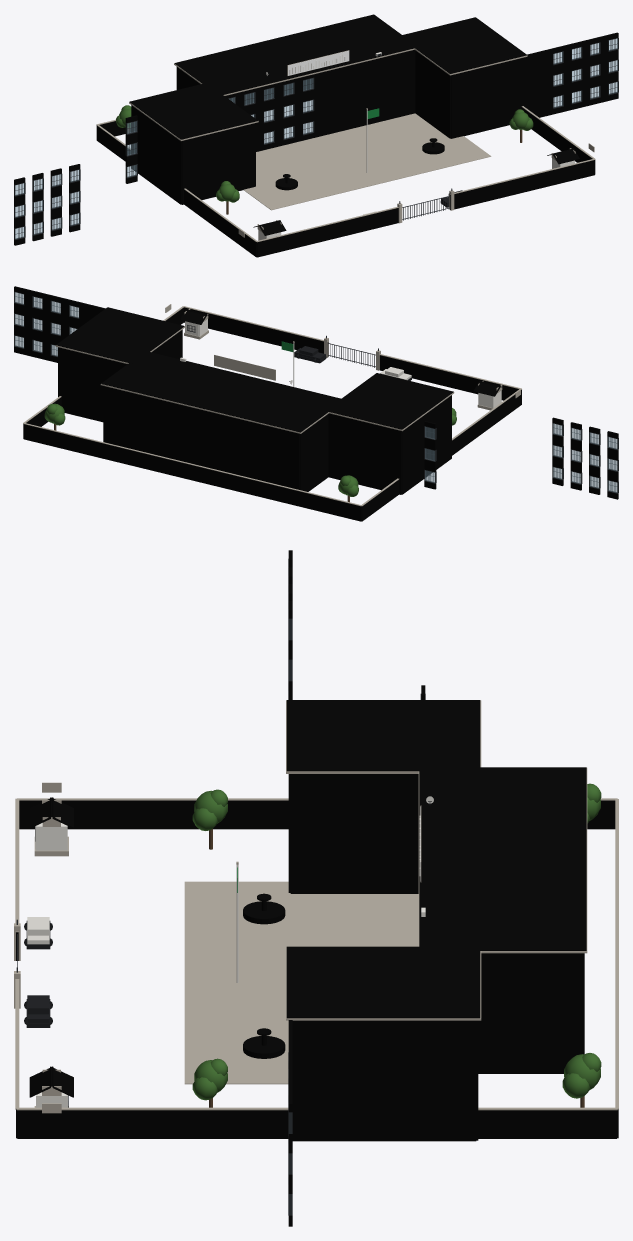
File: government.glb
3 renders of one model, top to bottom at view 1: azimuth 30°, elevation 25°; view 2: azimuth 150°, elevation 25°; view 3: azimuth 270°, elevation 25°, orthographic. The views are drawn at different scales.
Visible parts, largest first — view 1: slab, object 592, object 819, object 1055, object 817, object 900, object 1053, object 222, object 1113, object 1112, object 976, object 418 (+10 smaller); view 2: object 589, object 592, object 1109, object 816, object 819, object 1055, object 1052, object 817, object 590, object 1113, object 1110, object 1112 (+6 smaller); view 3: object 592, slab, object 1054, object 818, object 1055, object 819, object 591, object 1111, object 1110, object 1116, object 1114.
Part boxes in pixels (bbox=[...]): slab: bbox=[244, 113, 491, 210]; object 592: bbox=[174, 14, 414, 94]; object 819: bbox=[129, 83, 257, 139]; object 1055: bbox=[399, 17, 526, 73]; object 817: bbox=[131, 105, 181, 204]; object 900: bbox=[451, 71, 553, 117]; object 1053: bbox=[415, 50, 450, 138]; object 222: bbox=[314, 70, 415, 116]; object 1113: bbox=[450, 160, 594, 209]; object 1112: bbox=[257, 208, 398, 257]; object 976: bbox=[451, 48, 553, 95]; object 418: bbox=[314, 49, 415, 94]; object 589: bbox=[103, 386, 299, 489]; object 592: bbox=[101, 352, 340, 432]; object 1109: bbox=[23, 424, 361, 521]; object 816: bbox=[328, 413, 401, 494]; object 819: bbox=[325, 373, 453, 429]; object 1055: bbox=[56, 307, 184, 363]; object 1052: bbox=[58, 347, 127, 422]; object 817: bbox=[401, 395, 451, 494]; object 590: bbox=[300, 414, 328, 491]; object 1113: bbox=[184, 307, 328, 357]; object 1110: bbox=[361, 390, 521, 521]; object 1112: bbox=[379, 355, 518, 400]; object 592: bbox=[419, 767, 586, 950]; slab: bbox=[184, 881, 418, 1084]; object 1054: bbox=[292, 1020, 476, 1141]; object 818: bbox=[290, 774, 418, 893]; object 1055: bbox=[286, 946, 480, 1018]; object 819: bbox=[286, 700, 480, 771]; object 591: bbox=[478, 953, 582, 1073]; object 1111: bbox=[17, 1110, 616, 1138]; object 1110: bbox=[19, 800, 615, 829]; object 1116: bbox=[17, 1107, 617, 1110]; object 1114: bbox=[615, 799, 618, 1109].
Size of the model in its own units: 98.72 by 12.45 by 45.59.
